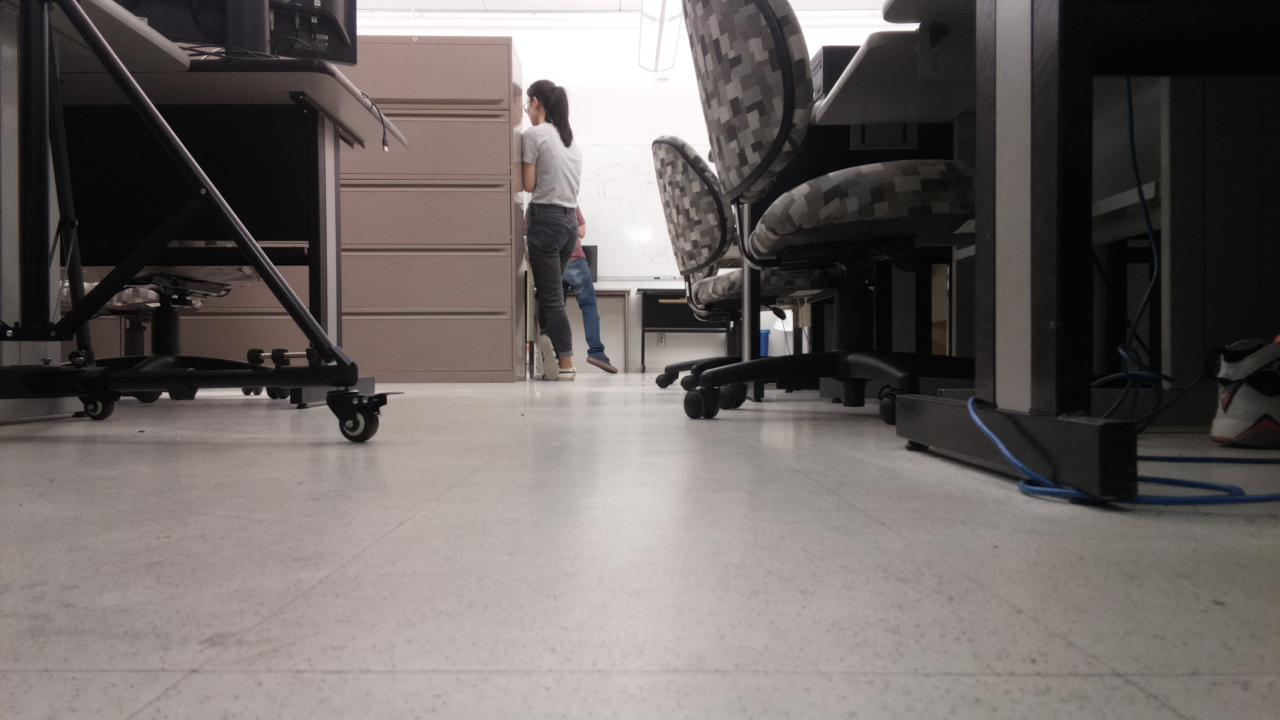person: (522, 80, 581, 381)
